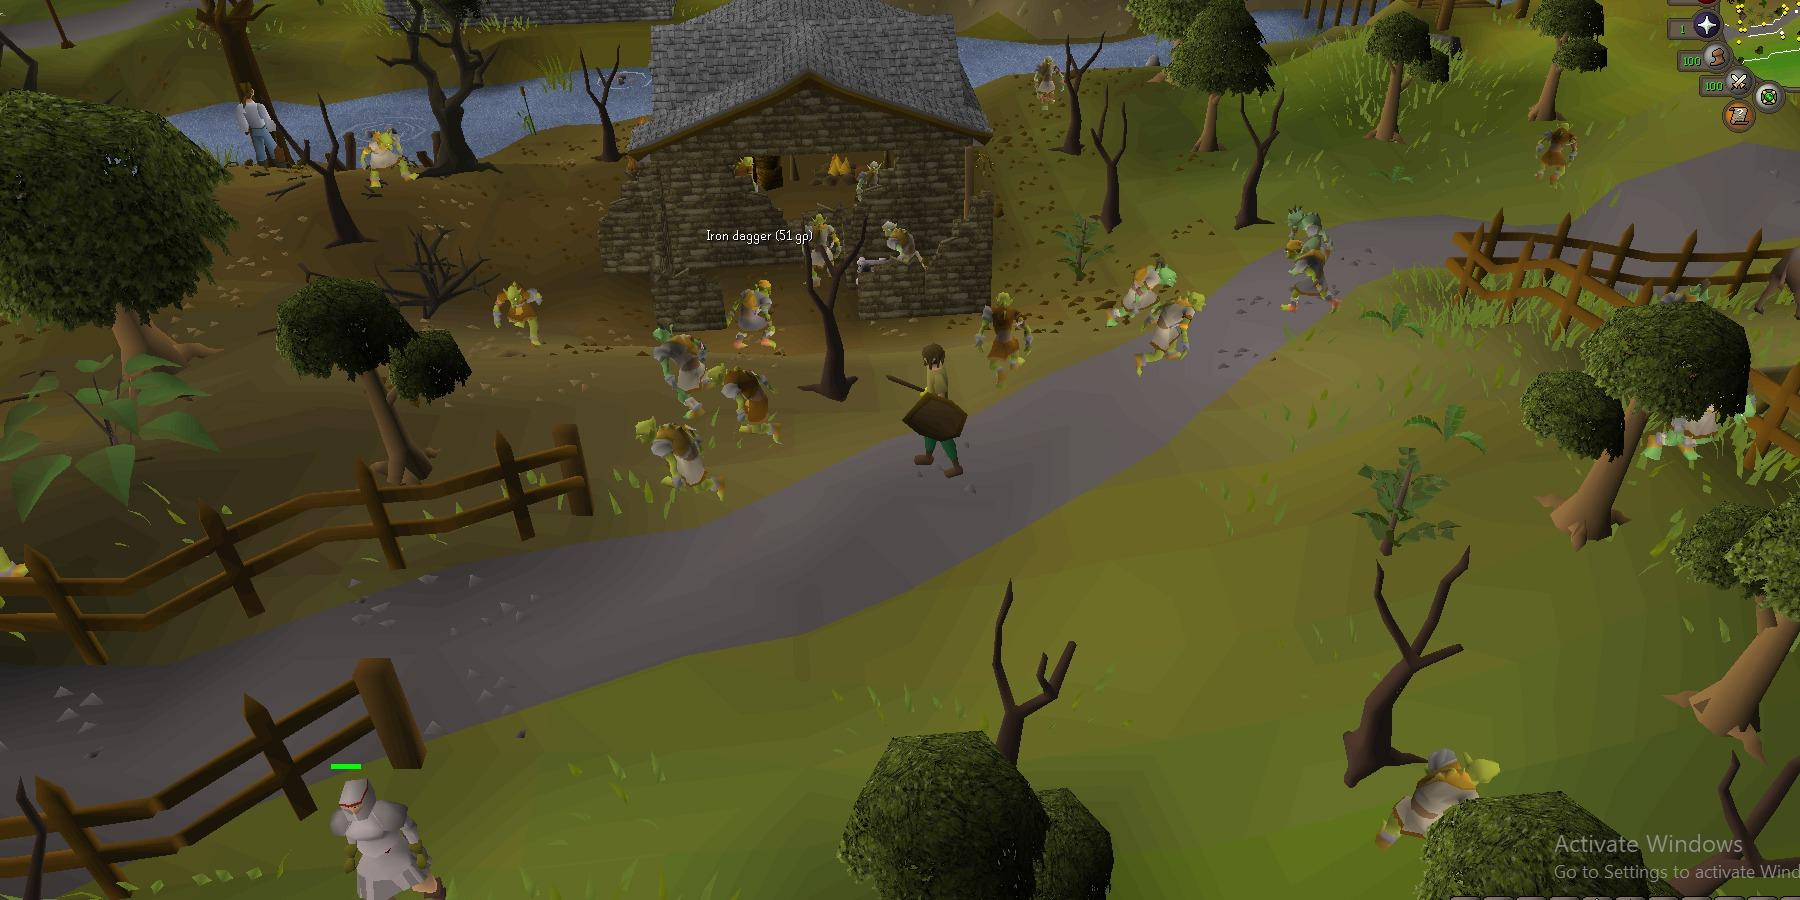goblin: (1375, 747, 1502, 849), (1646, 374, 1754, 461), (636, 416, 729, 501), (1134, 290, 1207, 377), (706, 364, 782, 444), (647, 323, 709, 419), (973, 292, 1033, 391), (1103, 257, 1177, 328), (1280, 239, 1341, 315), (724, 280, 779, 349), (360, 129, 420, 188), (490, 282, 545, 346), (1534, 121, 1578, 189), (802, 214, 841, 288), (1286, 204, 1335, 262), (880, 222, 925, 270), (1033, 56, 1066, 111), (856, 161, 885, 203), (732, 157, 760, 194)
